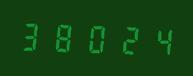eight: (49, 18, 79, 55)
four: (142, 21, 172, 58)
three: (18, 17, 48, 54)
two: (111, 20, 141, 57)
zero: (80, 19, 110, 56)
